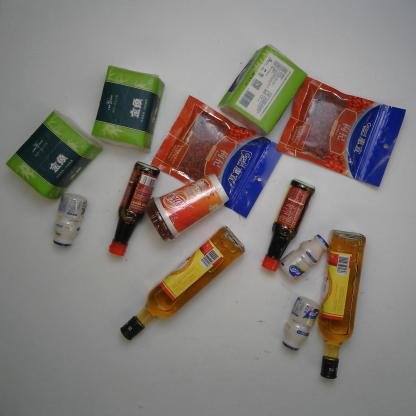Dried Fruit: (148, 91, 288, 221), (273, 73, 409, 190)
Instant Drink: (142, 168, 230, 244)
Milk: (277, 232, 331, 283), (279, 294, 324, 354), (47, 190, 91, 250)
Seasoner: (116, 223, 247, 344), (315, 226, 367, 382), (260, 176, 317, 274), (107, 159, 162, 258)
Tissue: (3, 106, 107, 203), (213, 41, 309, 140), (89, 62, 169, 156)
